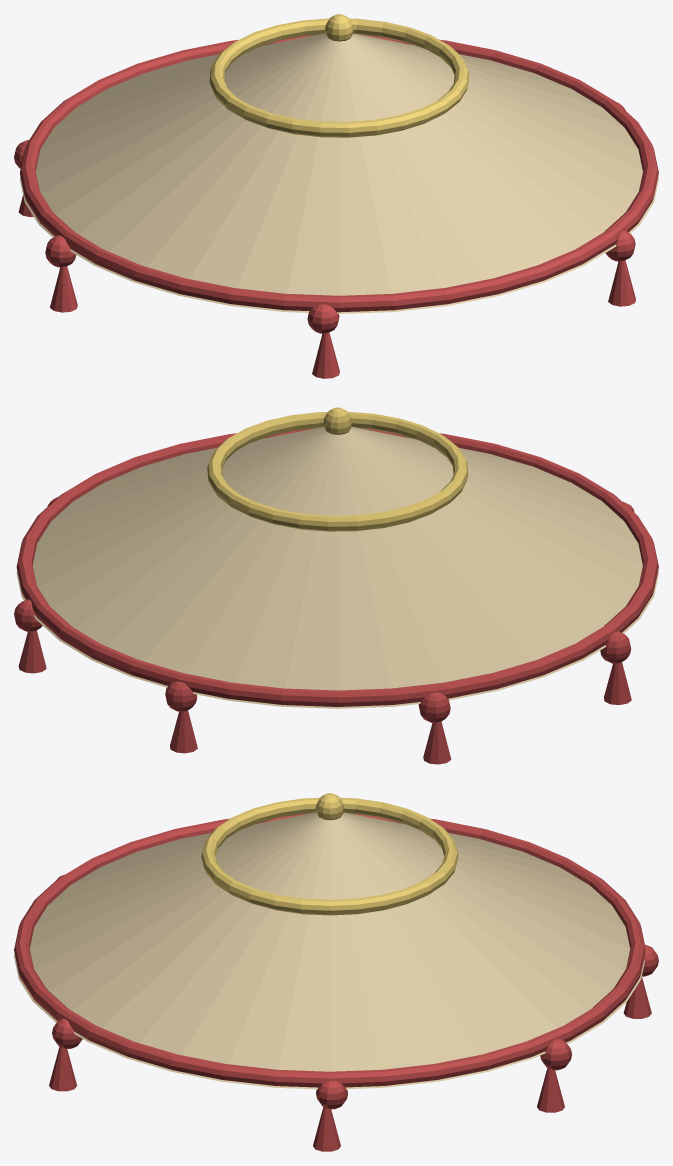
Rendered from 05-chapeau-samurai.glb.
The picture shows the model from 3 angles, top to bottom: view 1: azimuth 30°, elevation 25°; view 2: azimuth 150°, elevation 25°; view 3: azimuth 270°, elevation 25°; orthographic projection.
Visible parts, largest first — view 1: samurai-cone, samurai-lisere, samurai-anneau, samurai-gland, samurai-gland.001, samurai-gland.004, samurai-noeud, samurai-noeud.004, samurai-pommeau, samurai-noeud.001; view 2: samurai-cone, samurai-lisere, samurai-anneau, samurai-gland.004, samurai-gland.002, samurai-gland.003, samurai-gland.006, samurai-noeud.003, samurai-noeud.006, samurai-noeud.004, samurai-pommeau, samurai-noeud.002; view 3: samurai-cone, samurai-lisere, samurai-anneau, samurai-gland.001, samurai-gland.005, samurai-gland.002, samurai-noeud.002, samurai-noeud.005, samurai-gland.006, samurai-pommeau, samurai-noeud.001.
Boxes of the visible parts, x1,y1,x2,y2 form: samurai-cone: [20, 33, 658, 313]; samurai-lisere: [20, 35, 658, 312]; samurai-anneau: [209, 18, 469, 137]; samurai-gland: [312, 332, 339, 378]; samurai-gland.001: [608, 260, 635, 306]; samurai-gland.004: [50, 266, 77, 312]; samurai-noeud: [307, 304, 339, 333]; samurai-noeud.004: [45, 235, 76, 267]; samurai-pommeau: [325, 14, 353, 41]; samurai-noeud.001: [605, 230, 635, 261]; samurai-cone: [16, 426, 658, 708]; samurai-lisere: [16, 428, 658, 706]; samurai-anneau: [207, 411, 468, 531]; samurai-gland.004: [604, 662, 631, 704]; samurai-gland.002: [18, 630, 46, 673]; samurai-gland.003: [423, 721, 451, 764]; samurai-gland.006: [170, 710, 197, 753]; samurai-noeud.003: [418, 692, 450, 723]; samurai-noeud.006: [165, 681, 197, 711]; samurai-noeud.004: [600, 631, 631, 663]; samurai-pommeau: [323, 407, 351, 434]; samurai-noeud.002: [14, 599, 42, 631]; samurai-cone: [14, 812, 644, 1089]; samurai-lisere: [14, 814, 645, 1087]; samurai-anneau: [201, 797, 458, 915]; samurai-gland.001: [49, 1046, 76, 1091]; samurai-gland.005: [313, 1107, 340, 1151]; samurai-gland.002: [537, 1068, 564, 1112]; samurai-noeud.002: [540, 1039, 571, 1070]; samurai-noeud.005: [316, 1081, 347, 1109]; samurai-gland.006: [623, 977, 651, 1018]; samurai-pommeau: [316, 793, 343, 820]; samurai-noeud.001: [52, 1018, 82, 1048].
Size of the model in its own units: 1.3 by 0.4802 by 1.28.
